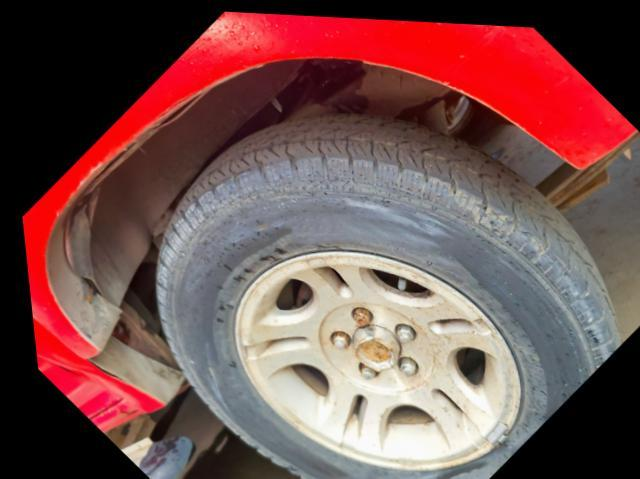tire flat: (146, 106, 616, 479)
